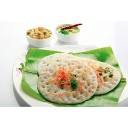dosa: (36, 53, 120, 102)
